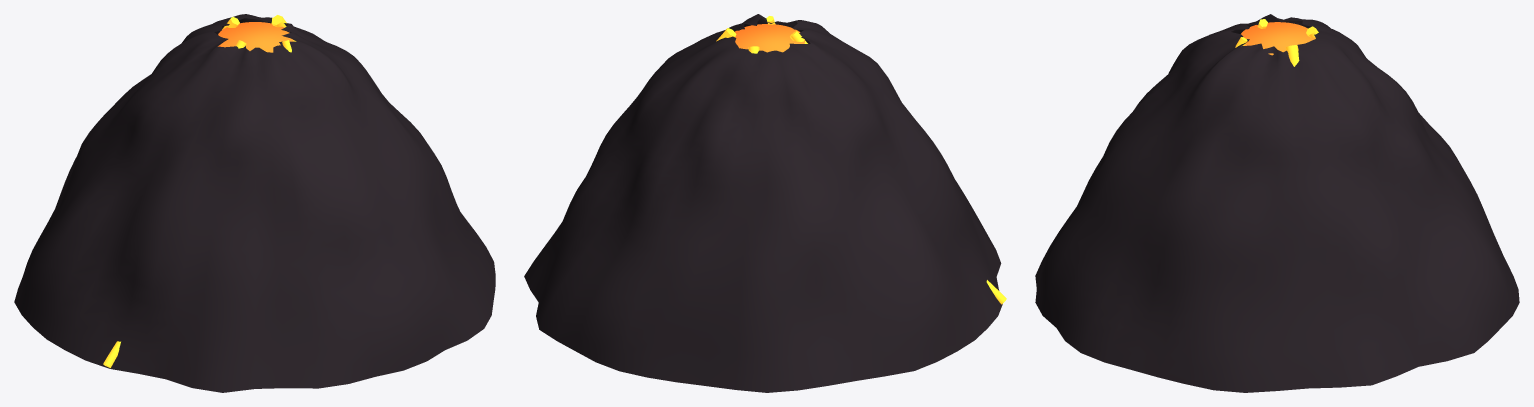
The model's file is gunung-api.glb.
3 renders of one model, left to right at view 1: azimuth 30°, elevation 25°; view 2: azimuth 150°, elevation 25°; view 3: azimuth 270°, elevation 25°, orthographic.
Visible parts, largest first — view 1: gunung, Cylinder; view 2: gunung, Cylinder; view 3: gunung, Cylinder.
Boxes of the visible parts, box(x1,y1,x2,y2) form: gunung: box(14, 14, 495, 392); Cylinder: box(218, 22, 293, 52); gunung: box(524, 14, 1002, 392); Cylinder: box(735, 24, 804, 52); gunung: box(1035, 14, 1519, 392); Cylinder: box(1241, 22, 1315, 55).
Bounding box in the file's own units: 121 × 71.65 × 121.
